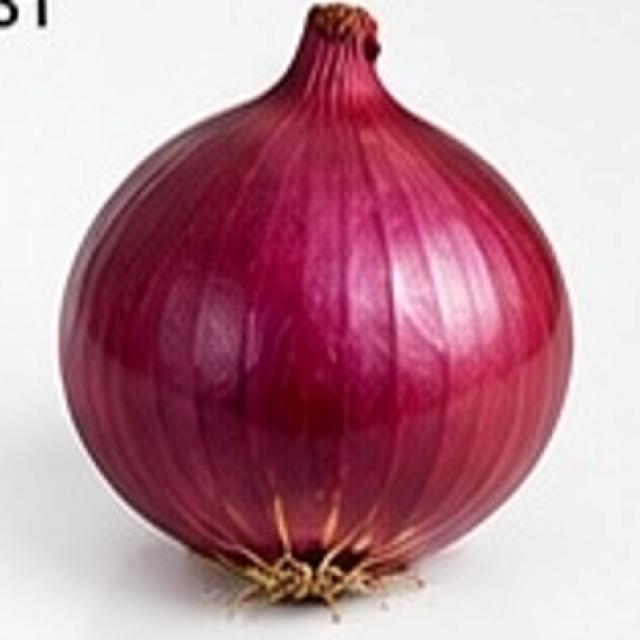healthy: (11, 0, 617, 640), (63, 5, 569, 605), (236, 208, 237, 220)
